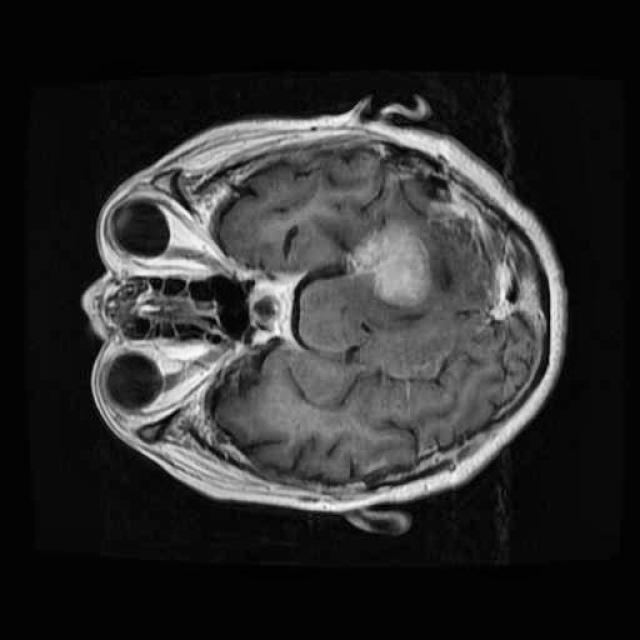Tumor: (330, 214, 449, 326)
